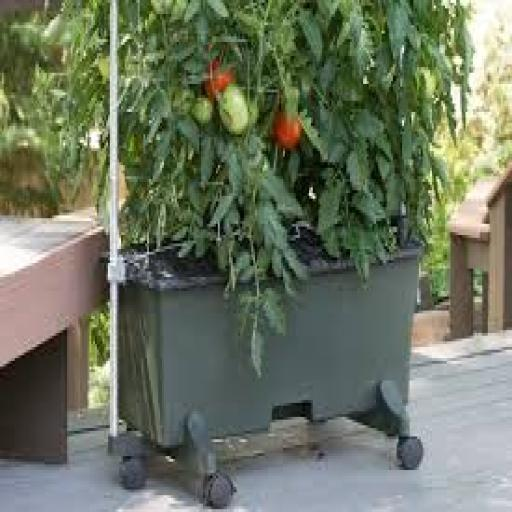tomato: (218, 84, 249, 134), (205, 59, 234, 100), (274, 112, 303, 151), (151, 0, 188, 19), (192, 98, 214, 125), (0, 87, 9, 125), (97, 56, 109, 81), (250, 101, 258, 125)
